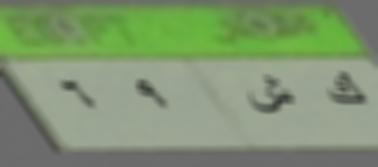6: (56, 76, 104, 118)
9: (128, 73, 179, 113)
kaaf: (324, 66, 368, 121)
sheen: (248, 66, 298, 126)
